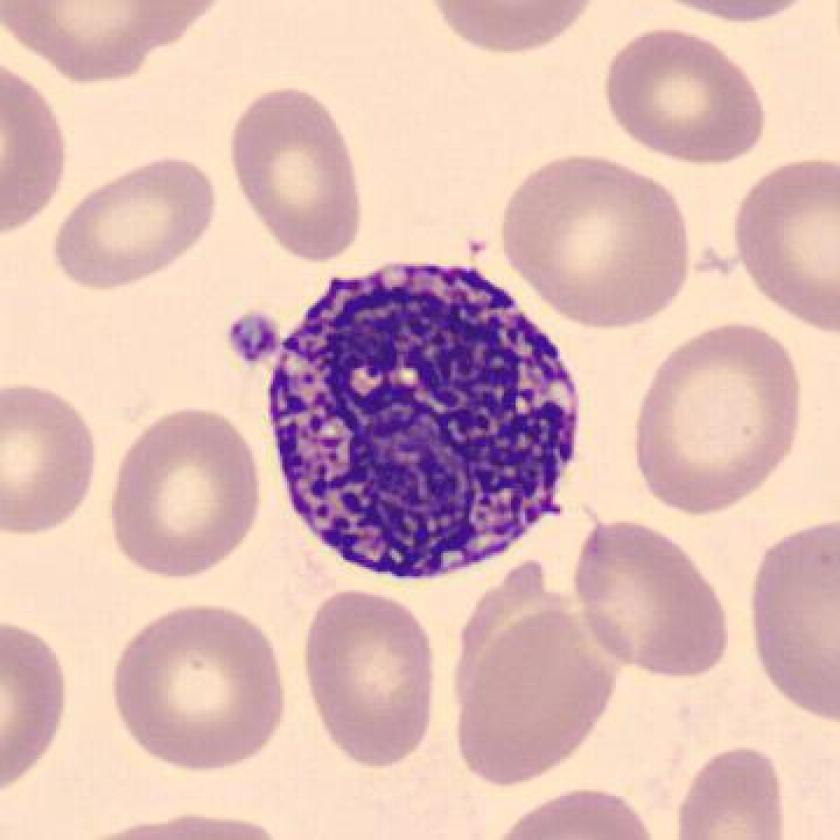basophil: (244, 249, 598, 591)
